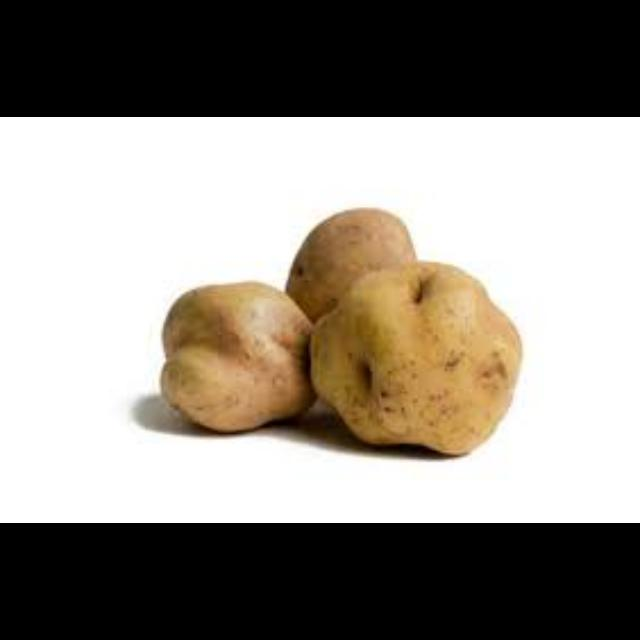Damaged potato: (306, 260, 524, 458), (156, 276, 324, 442)
Potato: (280, 205, 422, 388)
